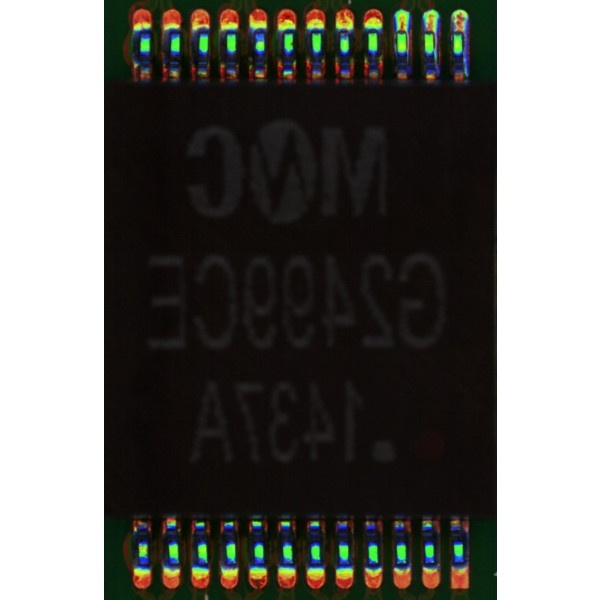Bad_podu: (397, 23, 407, 41), (426, 21, 434, 40), (454, 24, 462, 37)
Bad_qiaojiao: (464, 34, 469, 77), (435, 33, 439, 74), (406, 31, 410, 65)
